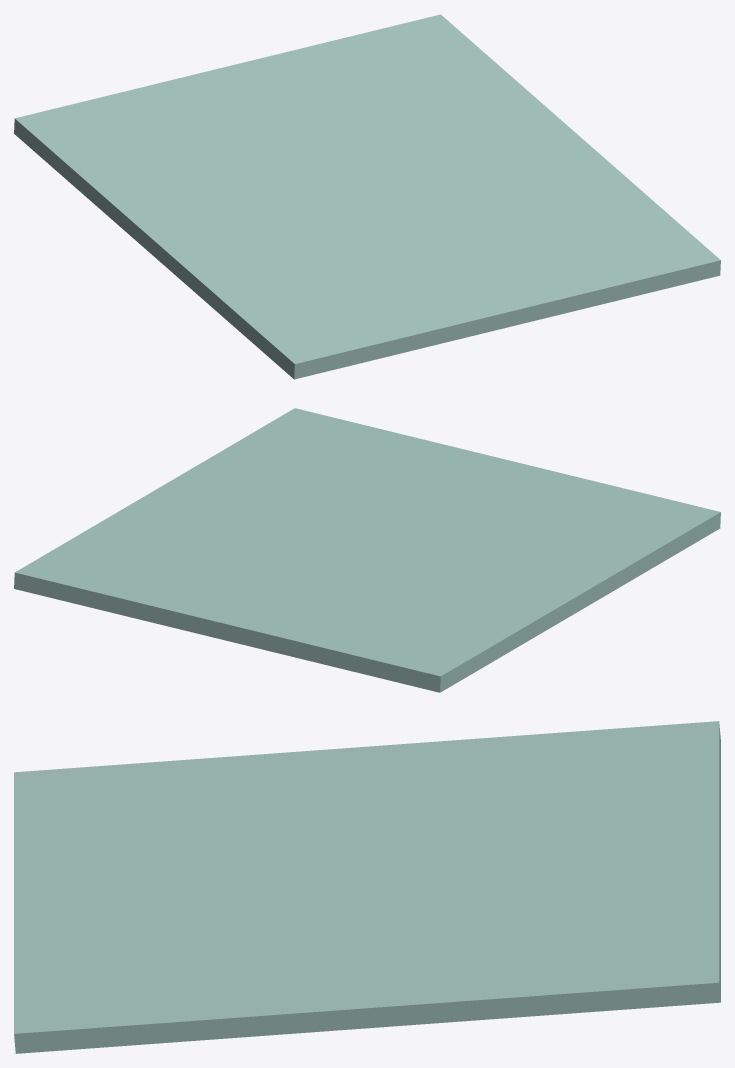
Rendered from roof_slope.glb.
3 renders of one model, top to bottom at view 1: azimuth 30°, elevation 25°; view 2: azimuth 150°, elevation 25°; view 3: azimuth 270°, elevation 25°, orthographic. The views are drawn at different scales.
Parts seen in each view (by area): view 1: roof_slope; view 2: roof_slope; view 3: roof_slope.
Boxes of the visible parts, x1,y1,x2,y2 form: roof_slope: [14, 14, 720, 379]; roof_slope: [14, 408, 720, 692]; roof_slope: [14, 721, 720, 1053].
Size of the model in its own units: 14 by 1.78 by 15.99.
